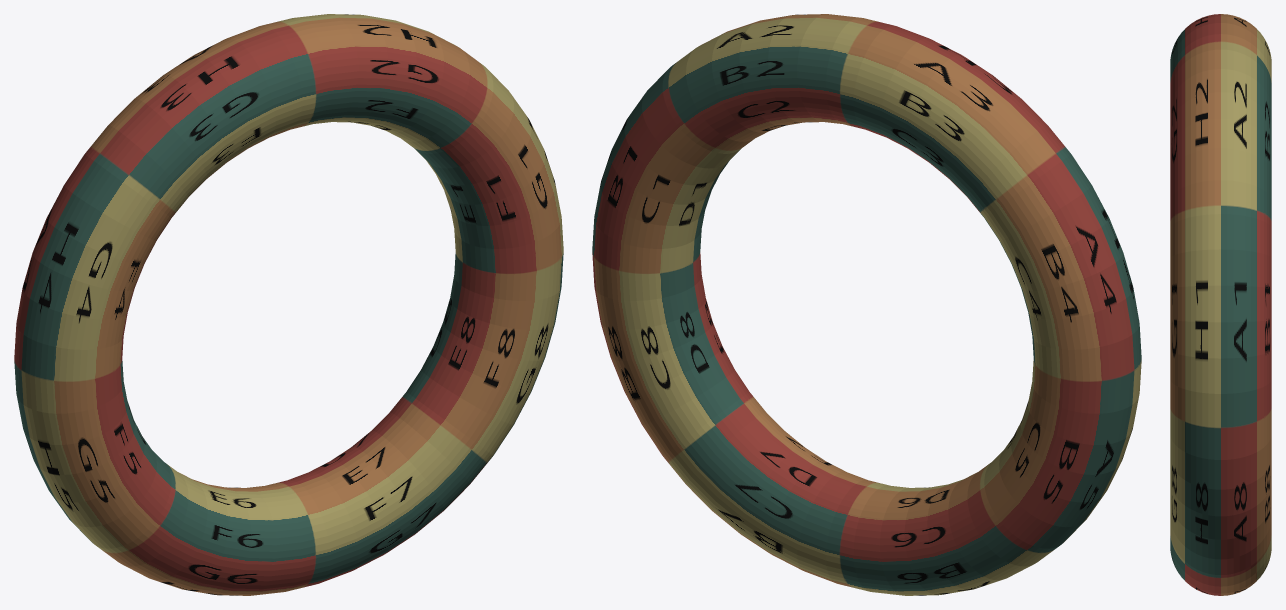
The model's file is texture_torus_R18_r10.glb.
3 renders of one model, left to right at view 1: azimuth 30°, elevation 25°; view 2: azimuth 150°, elevation 25°; view 3: azimuth 270°, elevation 25°, orthographic. The views are drawn at different scales.
Parts seen in each view (by area): view 1: world; view 2: world; view 3: world.
Boxes of the visible parts, x1=… form: world: x1=14, y1=14, x2=563, y2=595; world: x1=592, y1=14, x2=1141, y2=595; world: x1=1170, y1=14, x2=1271, y2=595.
Size of the model in its own units: 26.67 by 26.61 by 4.66.
Materials: 1 (1 with a texture image).
